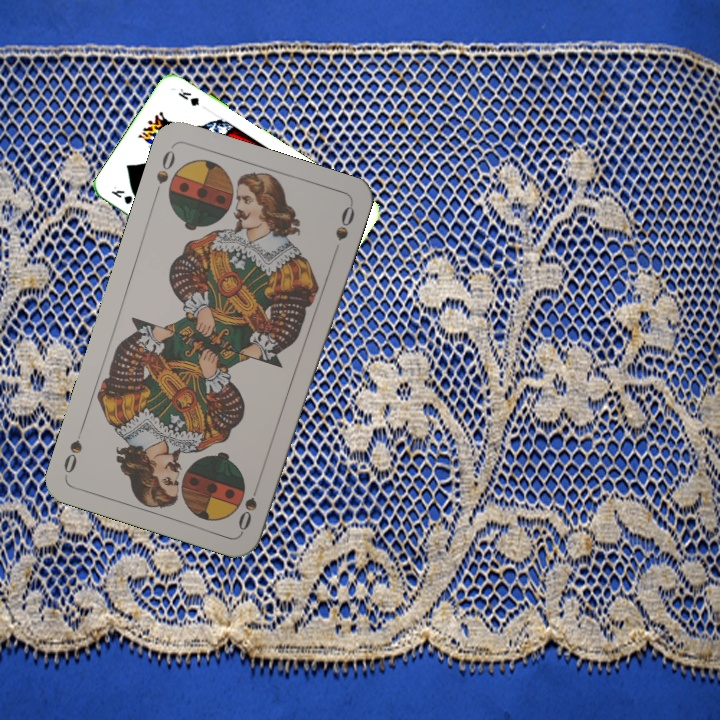GK: (107, 182, 135, 207)
SO: (234, 476, 263, 534), (150, 146, 178, 201)
